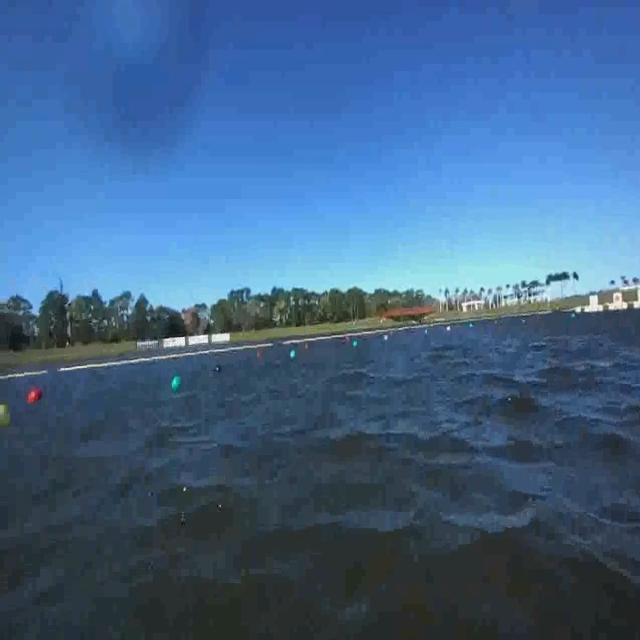green-buoy: (172, 376, 182, 391), (289, 349, 296, 361)
red-buoy: (26, 386, 41, 401)
yellow-buoy: (0, 406, 11, 428)
